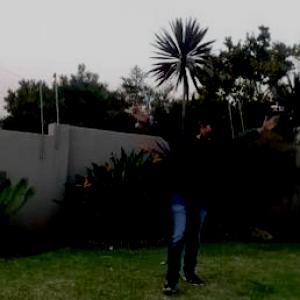takeoff: (128, 94, 272, 299)
